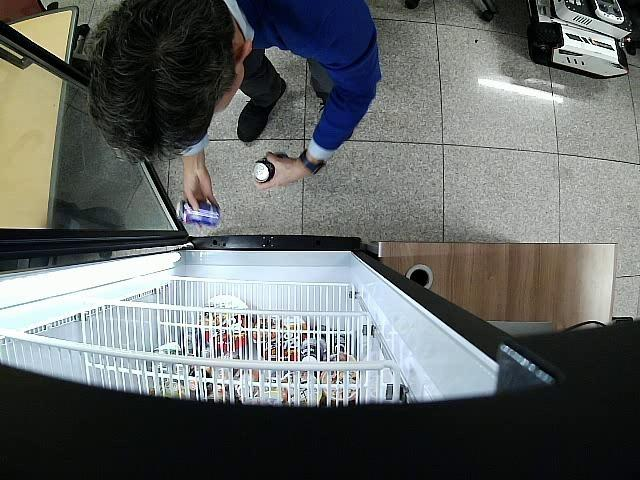14_welchsGrape: (250, 150, 290, 181), (176, 200, 220, 226)
